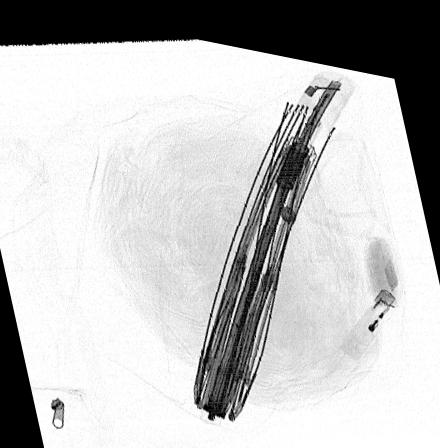Lighter: (339, 270, 400, 345)
